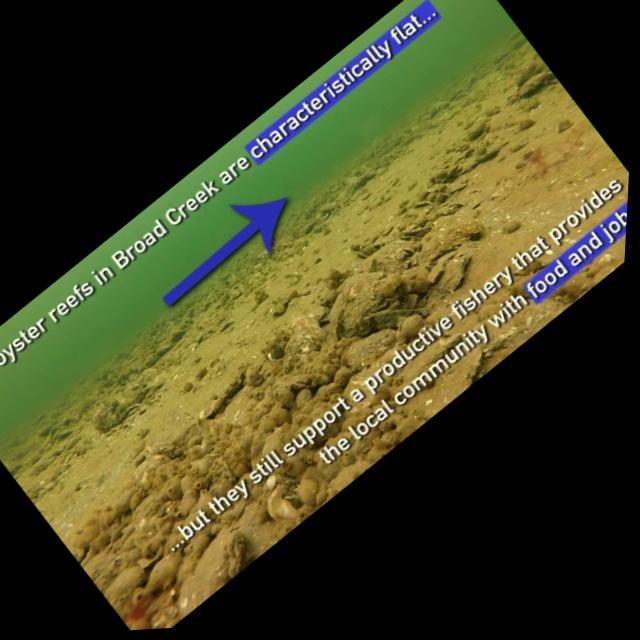Oyster-Closed: (330, 271, 392, 338), (427, 101, 449, 119)
Oyster-Indeterminate: (402, 340, 491, 424), (193, 529, 257, 602), (418, 212, 484, 264), (341, 328, 397, 372), (152, 413, 200, 458), (359, 239, 417, 275), (223, 385, 265, 428), (283, 332, 322, 373), (145, 552, 183, 594), (134, 451, 170, 491), (106, 565, 148, 598), (365, 309, 430, 330), (436, 256, 470, 293), (556, 273, 594, 302), (89, 553, 117, 592), (268, 484, 298, 520), (94, 401, 127, 433), (218, 365, 248, 398), (518, 72, 555, 98), (292, 316, 326, 342), (593, 260, 625, 285), (516, 61, 545, 88), (585, 253, 615, 277), (50, 417, 77, 442), (199, 396, 226, 419), (257, 239, 286, 260), (137, 548, 163, 571), (349, 172, 376, 192), (122, 383, 145, 404), (468, 118, 489, 141), (457, 156, 480, 174), (287, 236, 308, 255), (202, 318, 221, 337), (123, 391, 145, 407), (436, 203, 463, 216), (466, 142, 487, 158), (185, 329, 203, 347), (38, 421, 57, 437), (69, 546, 86, 563), (126, 618, 150, 630), (321, 201, 341, 215), (503, 220, 522, 234), (430, 169, 449, 183), (302, 219, 319, 234), (169, 328, 186, 343), (144, 353, 160, 368), (557, 119, 574, 133), (446, 182, 467, 193), (519, 117, 535, 131), (427, 192, 447, 203), (427, 183, 448, 193), (157, 343, 172, 356), (413, 200, 434, 207), (190, 342, 200, 354), (191, 341, 200, 353), (116, 352, 126, 362), (37, 414, 46, 423), (182, 357, 187, 360)
Oyster-Open: (145, 375, 165, 394), (125, 403, 141, 411)
